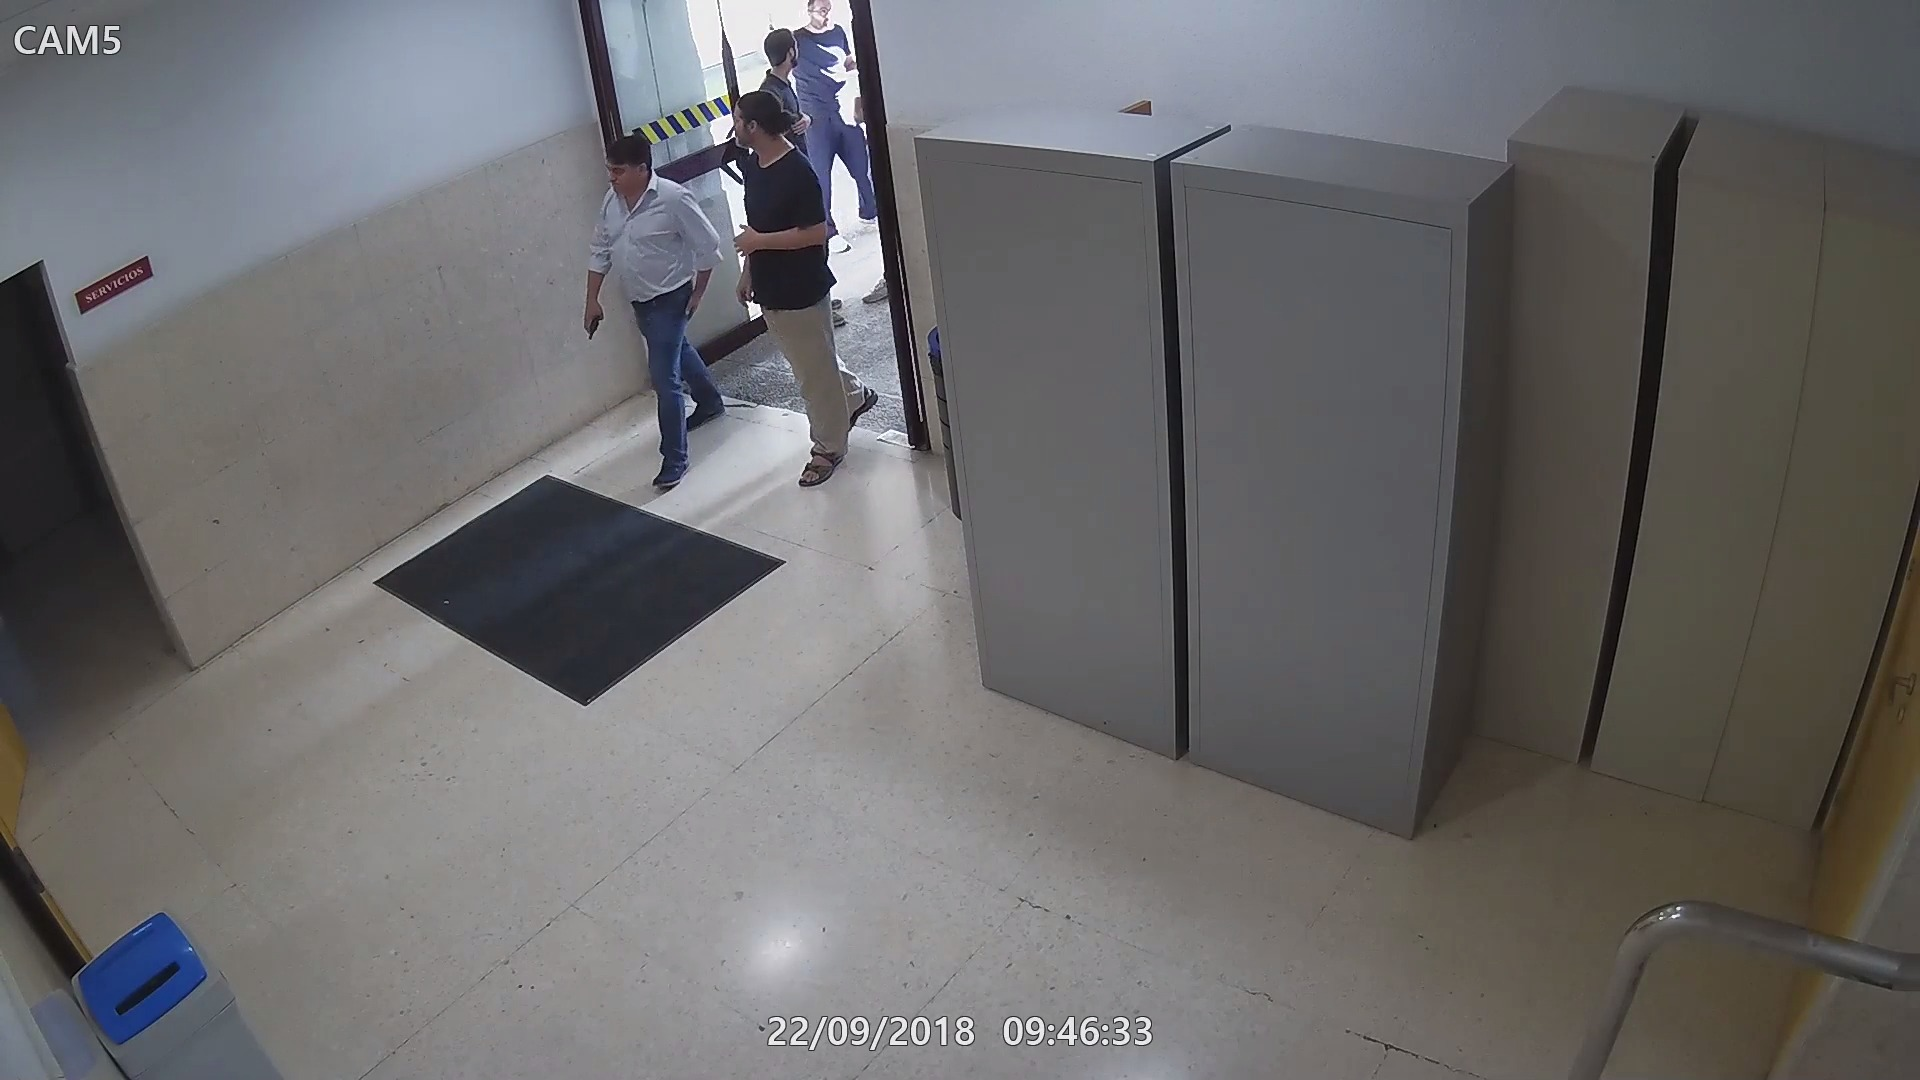Handgun: (579, 302, 607, 342)
